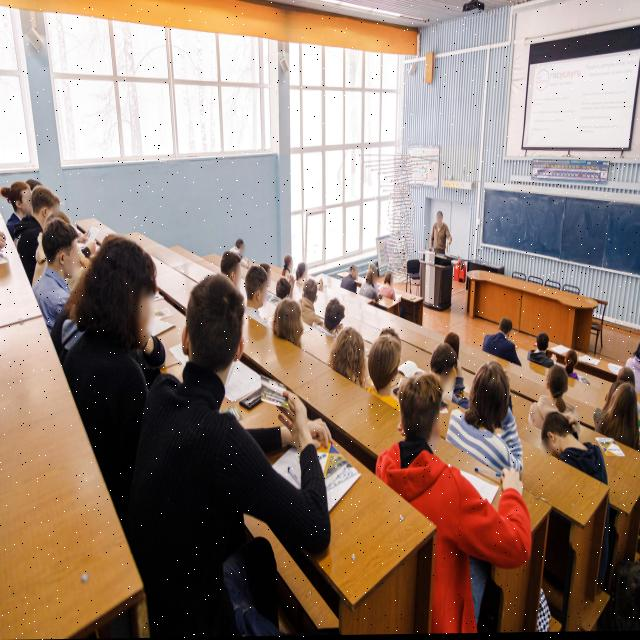Person: (145, 273, 323, 638), (60, 207, 205, 527), (368, 380, 484, 636), (36, 205, 84, 331), (542, 410, 600, 492), (526, 364, 581, 434), (596, 378, 639, 459), (321, 322, 367, 391), (273, 294, 312, 367), (364, 339, 404, 406), (424, 346, 464, 405), (479, 314, 519, 368), (1, 180, 32, 249), (213, 237, 243, 299), (27, 184, 58, 242), (242, 268, 274, 324), (424, 211, 459, 259), (320, 294, 350, 339), (297, 278, 321, 331), (559, 347, 589, 389), (529, 332, 553, 370), (443, 330, 465, 371), (292, 260, 316, 289), (232, 234, 251, 270), (362, 269, 379, 309), (344, 264, 361, 302), (270, 275, 292, 302), (380, 273, 397, 305), (279, 253, 294, 277), (369, 260, 377, 278)
